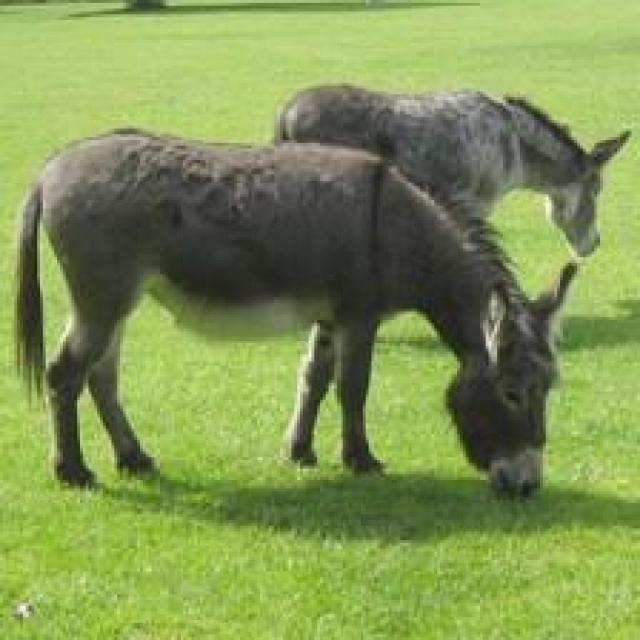Donkey: (12, 123, 577, 500), (268, 80, 632, 260)
